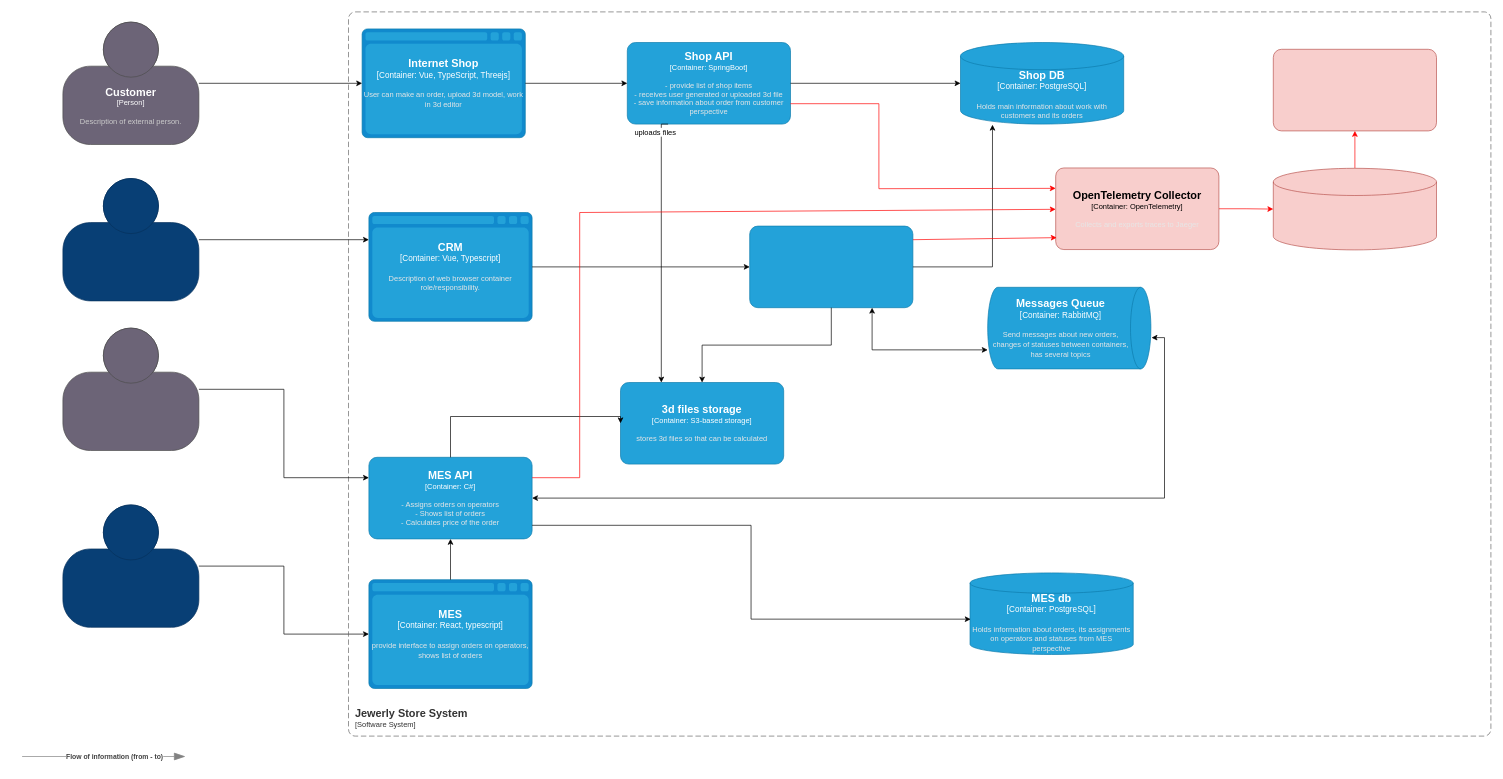
Some shapes in this 1503 by 779 pixel diagram are drawn without their labels. Each missing label, with the box of its shape:
API user [Person] Description of external person.: (62, 327, 199, 451)
CRM API [Container: SpringBoot] Description of container role/responsibility.: (749, 225, 913, 308)
Jaeger DB [Container: ElasticSearch] Store spans: (1273, 168, 1436, 250)
Jaeger UI [Container: ] UI to visualize tracing data: (1273, 49, 1436, 131)
Operator [Person] Takes order in work, manufactures jewerly: (62, 504, 199, 627)
Seller [Person] Operates with order, confirms manufacturing for the user: (62, 178, 199, 301)
